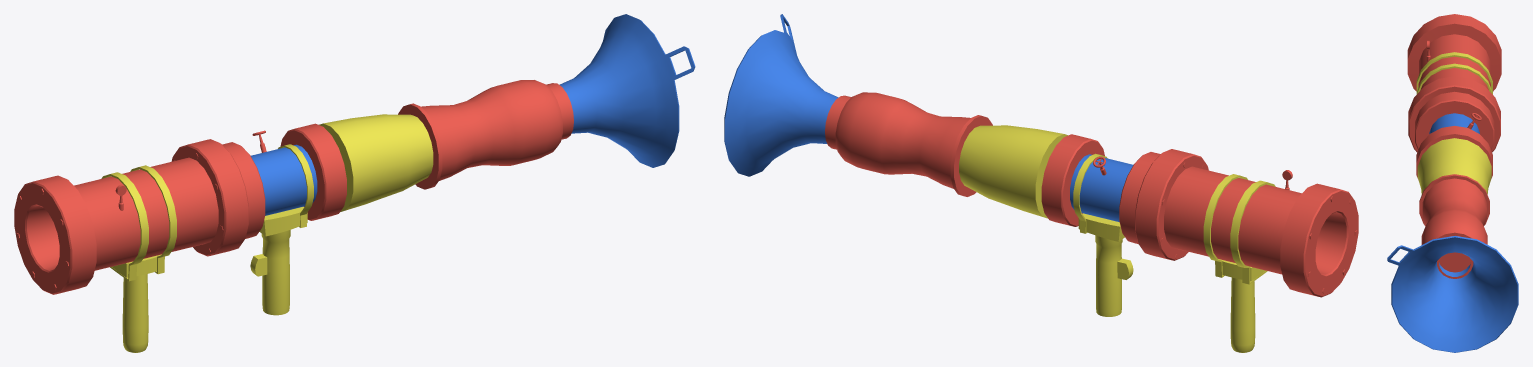
Rendered from bazoka.fbx.
The picture shows the model from 3 angles, left to right: view 1: azimuth 30°, elevation 25°; view 2: azimuth 150°, elevation 25°; view 3: azimuth 270°, elevation 25°; orthographic projection. The views are drawn at different scales.
Visible parts, largest first — view 1: Cylinder001; view 2: Cylinder001; view 3: Cylinder001.
Part boxes in pixels (x1,y1,x2,y2): Cylinder001: (14,14,695,352); Cylinder001: (724,14,1358,352); Cylinder001: (1387,14,1518,352).
Bounding box in the file's own units: 154 × 49.99 × 34.94.
